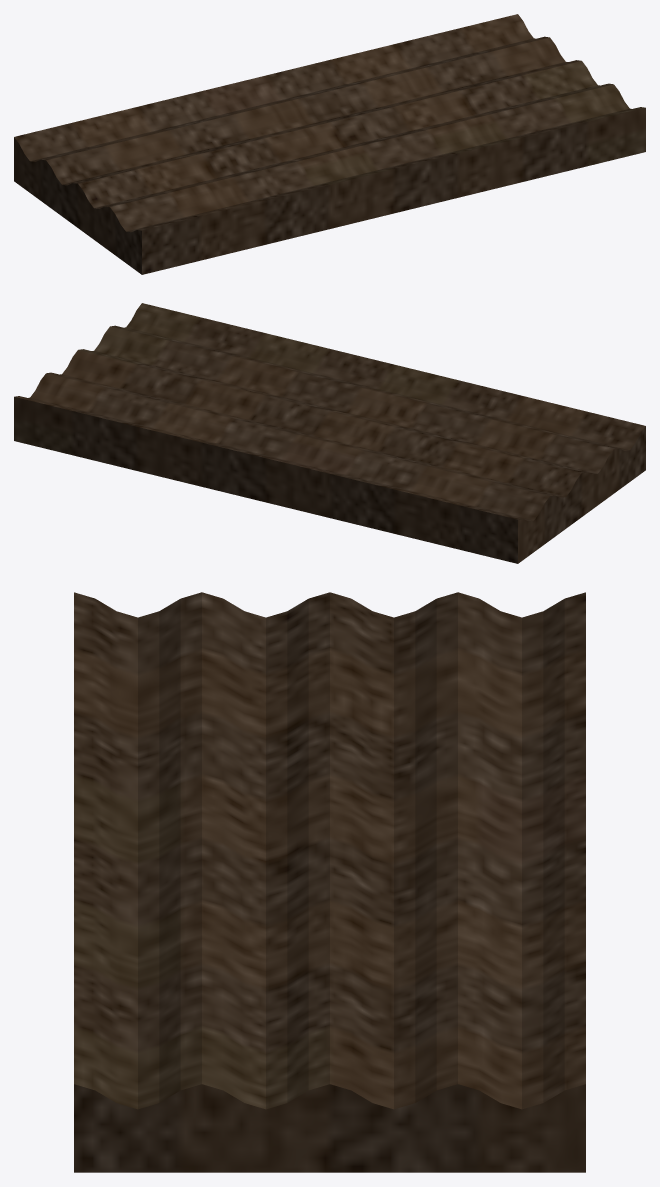
The model's file is soil_plot_3d.glb.
3 views of the same model, one above another, from view 1: azimuth 30°, elevation 25°; view 2: azimuth 150°, elevation 25°; view 3: azimuth 270°, elevation 25° (orthographic). The views are drawn at different scales.
Visible parts, largest first — view 1: bed; view 2: bed; view 3: bed.
Boxes of the visible parts, x1=… form: bed: x1=14, y1=14, x2=645, y2=274; bed: x1=14, y1=303, x2=645, y2=563; bed: x1=74, y1=592, x2=585, y2=1172.
Size of the model in its own units: 1.56 by 0.1312 by 0.6875.
Materials: 1 (1 with a texture image).
